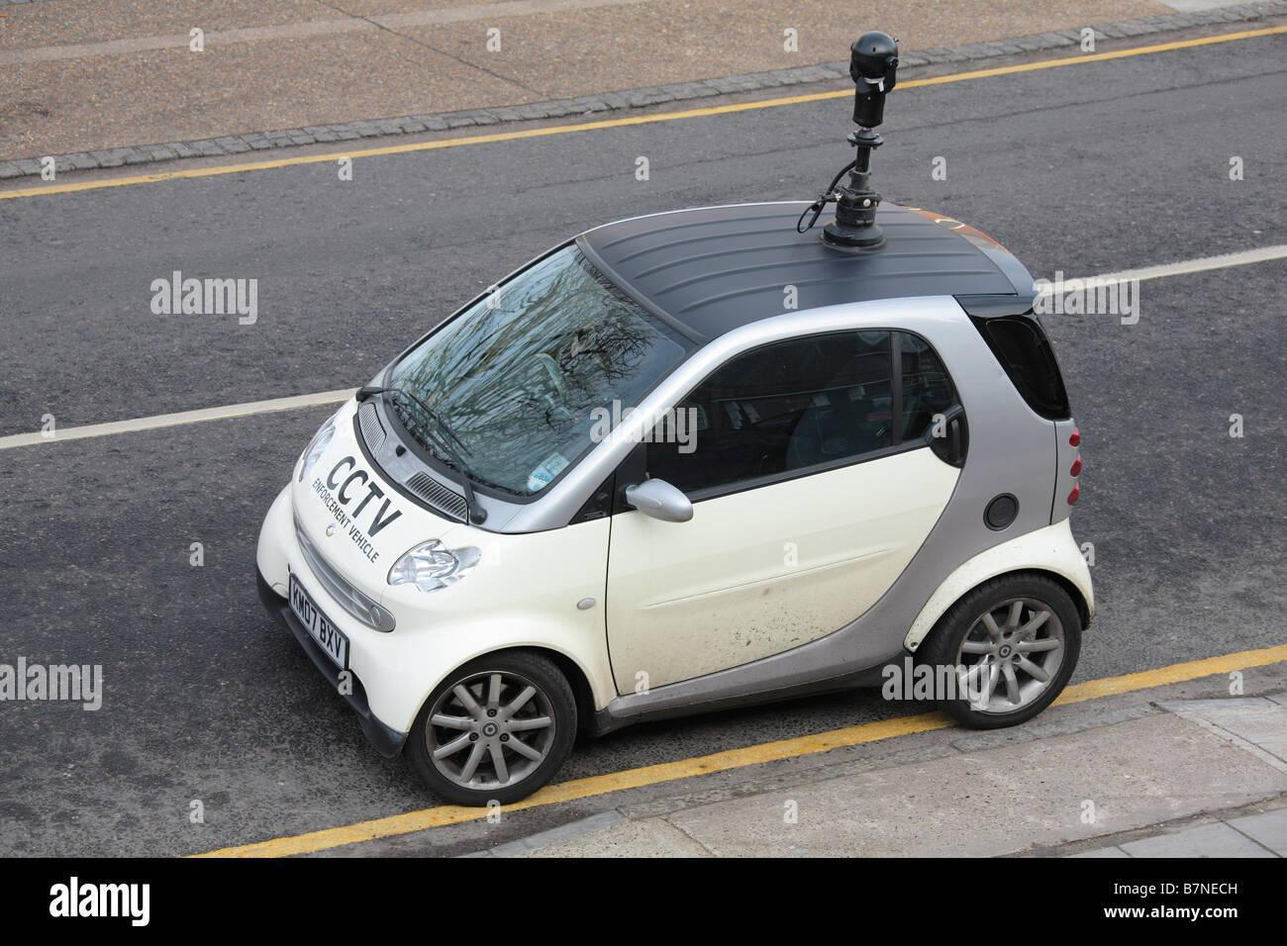Monitor: (783, 42, 968, 296)
